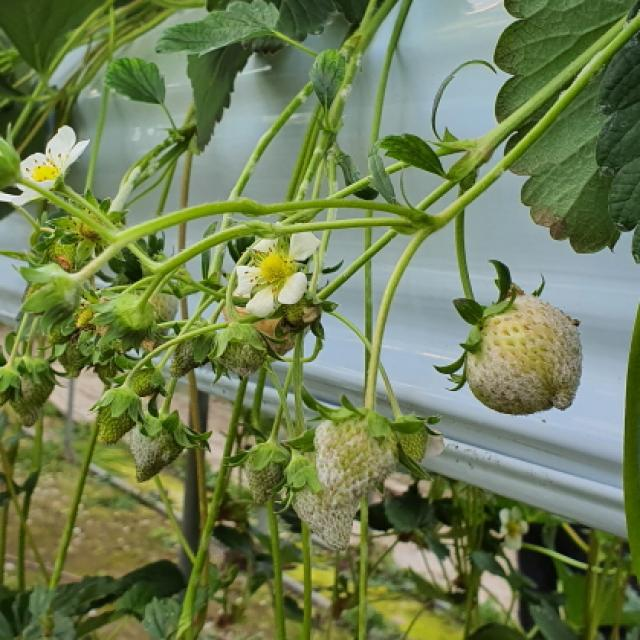Powdery Mildew Fruit: (462, 295, 585, 418), (312, 406, 401, 498), (287, 454, 360, 549), (130, 416, 187, 482)
